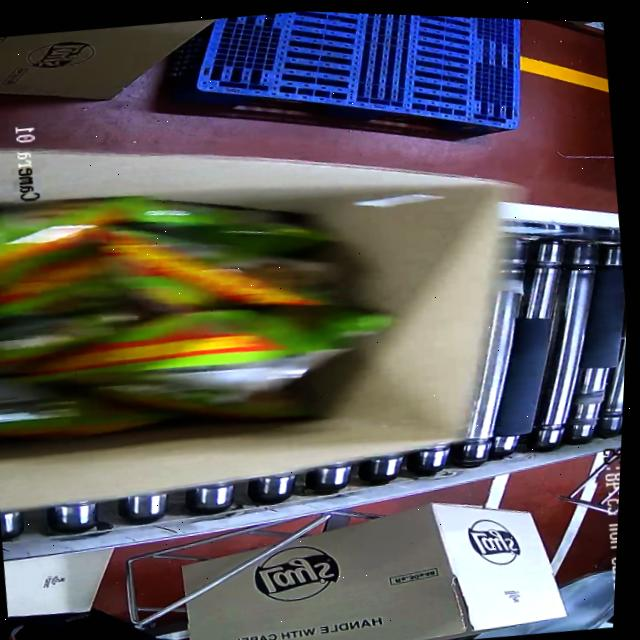YOGURT_HERB: (0, 159, 391, 458)
